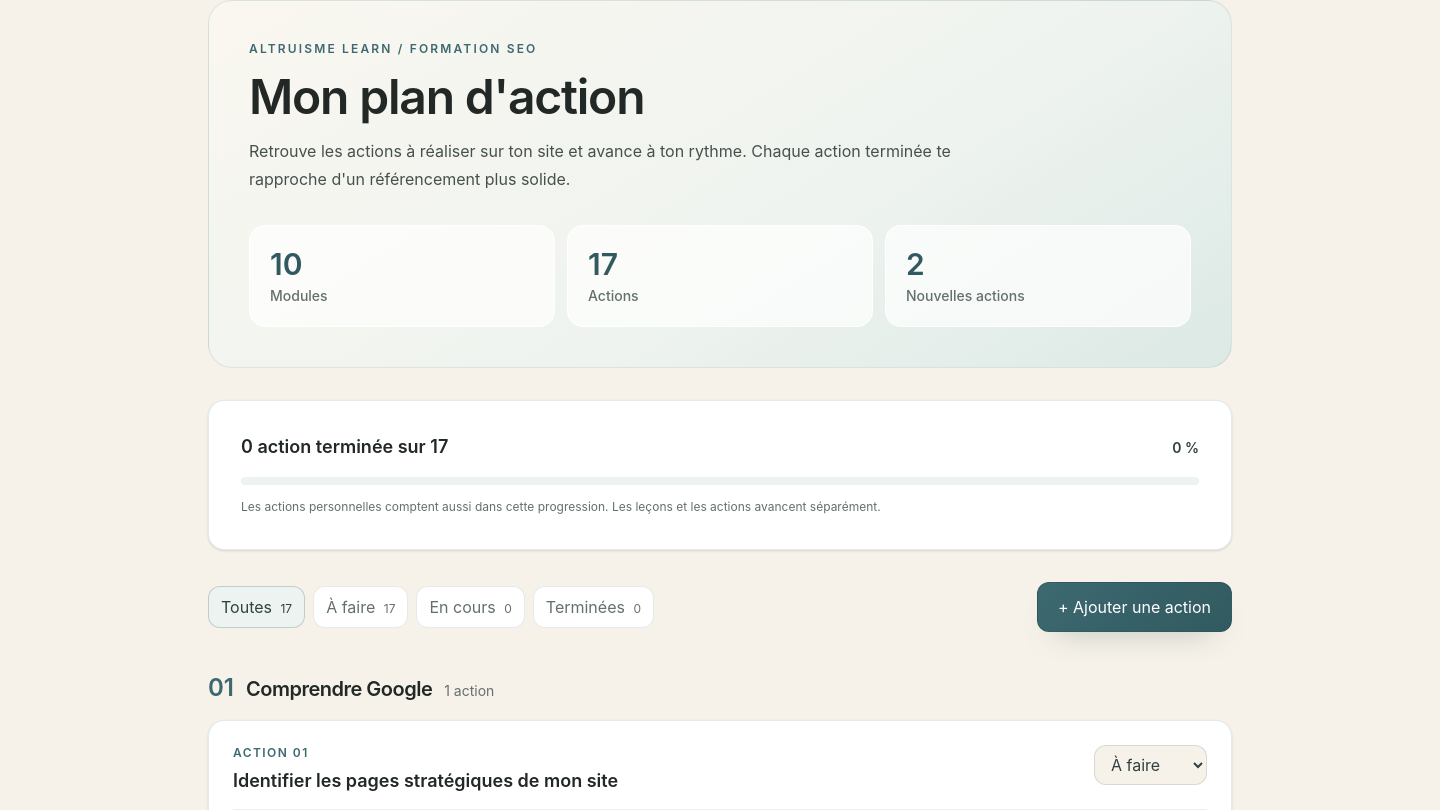
Test: Mon plan d’action › ajoute une action personnelle dans la progression
Click the button "+ Ajouter une action": (1134, 607) left=1037, top=582, right=1232, bottom=632
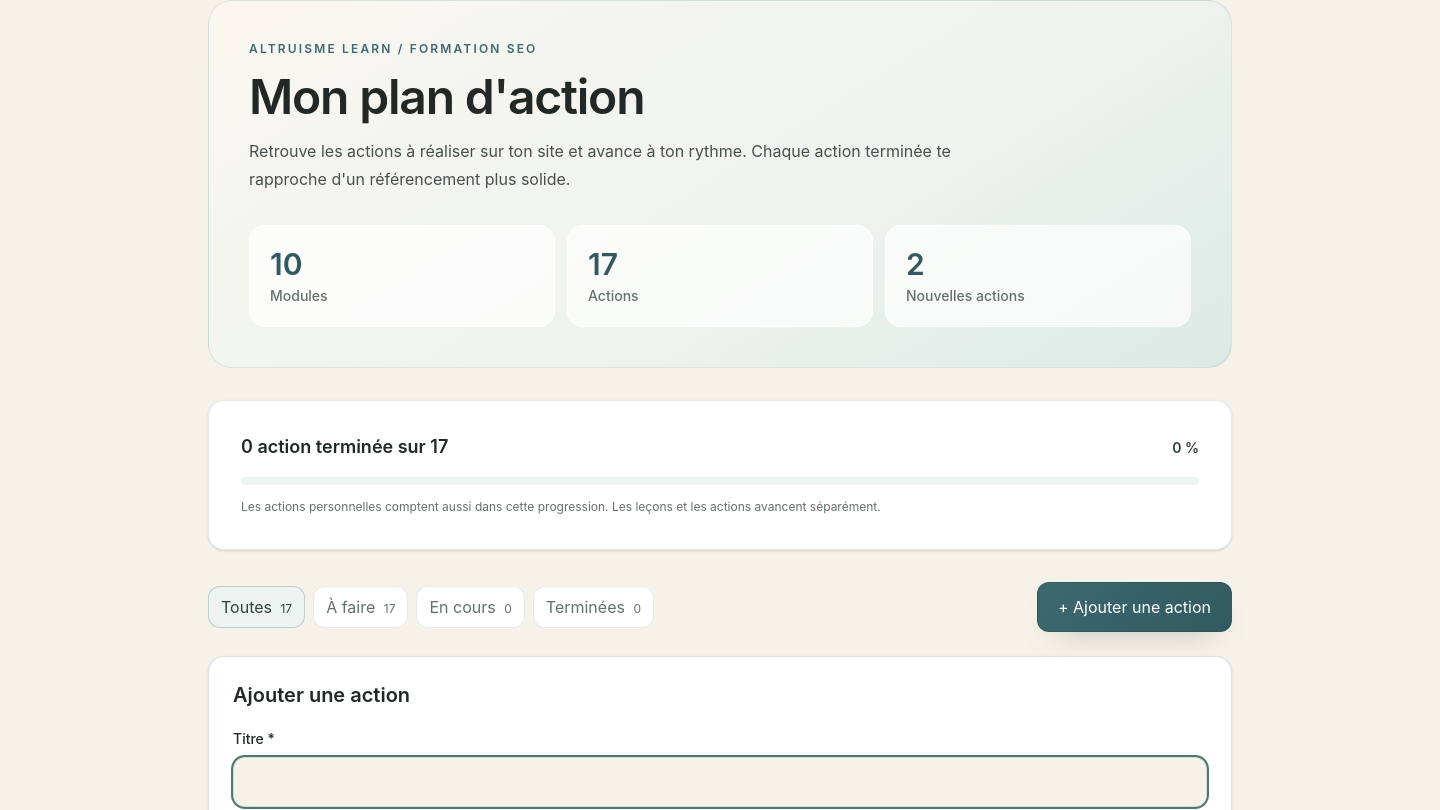
In the field labelled "Titre *": (720, 782) left=233, top=757, right=1207, bottom=807, type "Améliorer ma page de service"
(page scrolled)
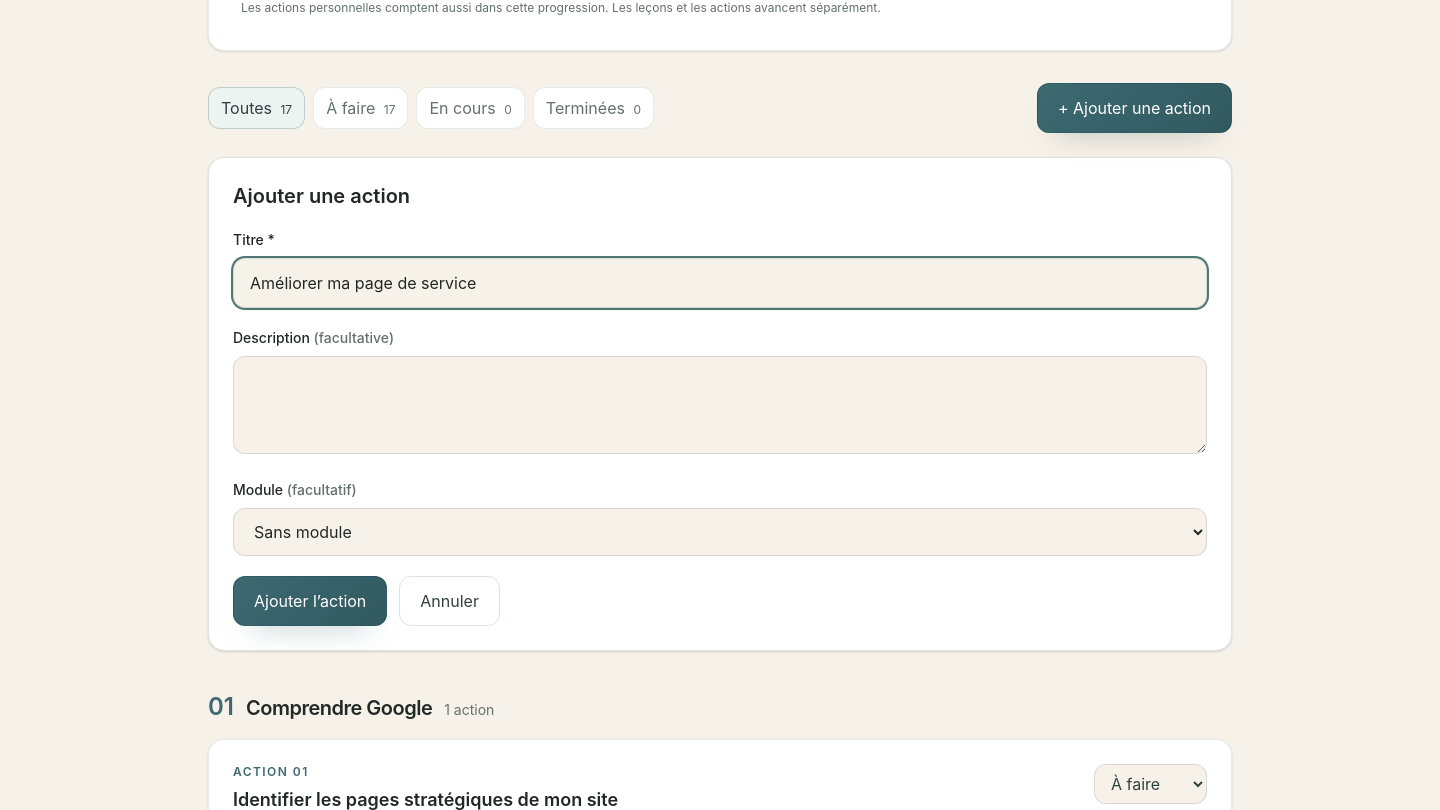
In the text box labelled "Description (facultative)": (720, 405) left=233, top=356, right=1207, bottom=454, type "Revoir les liens internes."
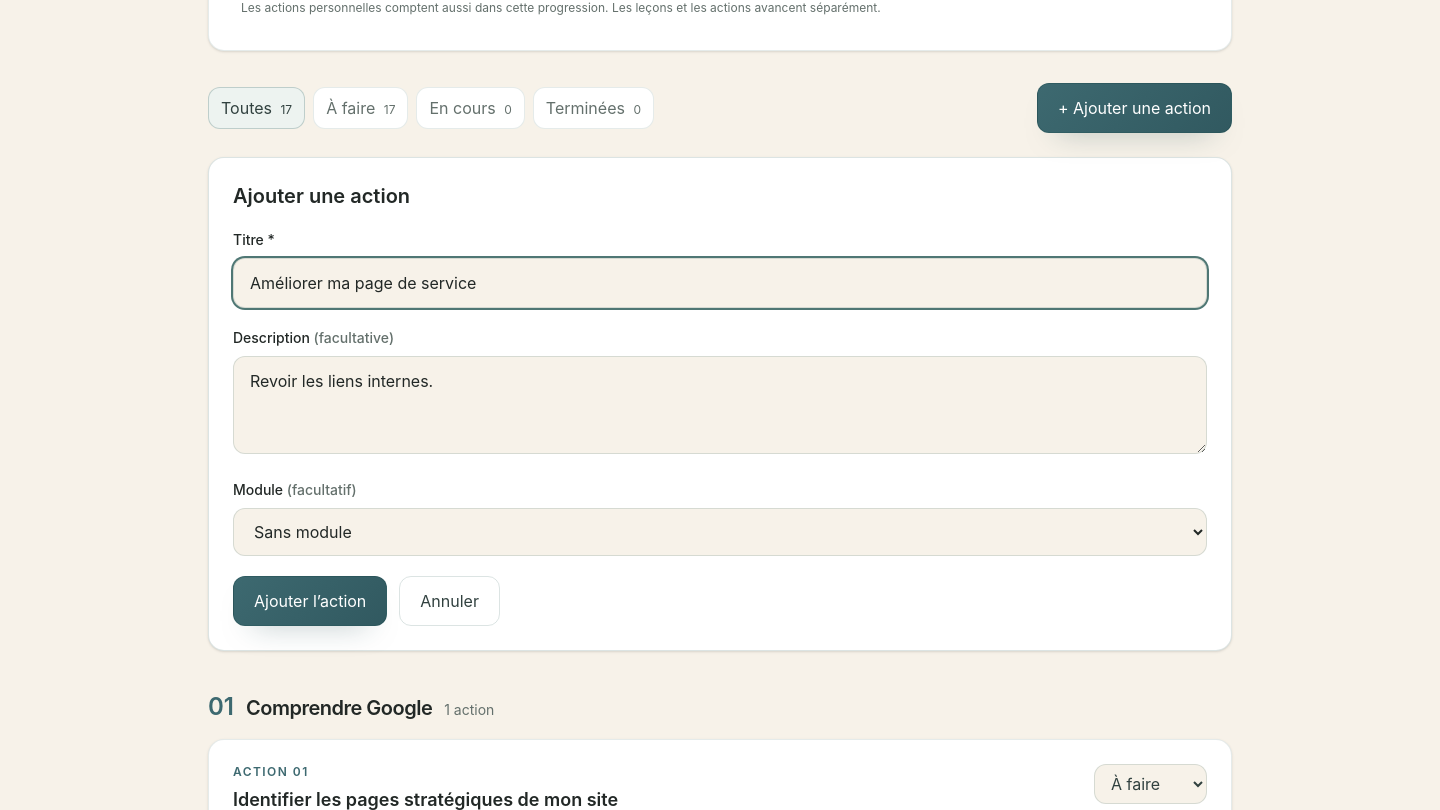
Select "04 — Optimiser tes pages" in the dropdown labelled "Module (facultatif)": (720, 532) left=233, top=508, right=1207, bottom=556
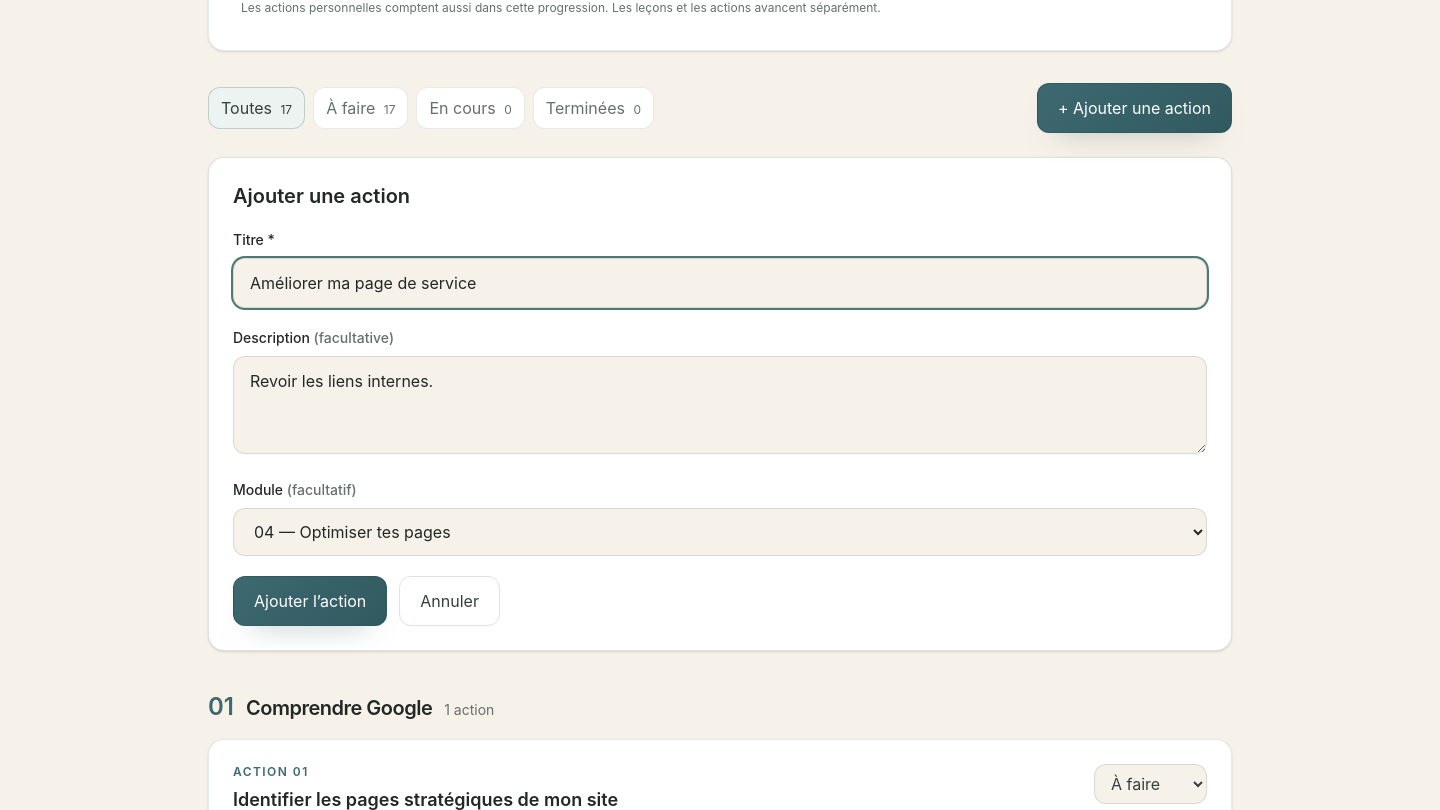
Submit the form, box left=208, top=157, right=1232, bottom=651
(page scrolled)
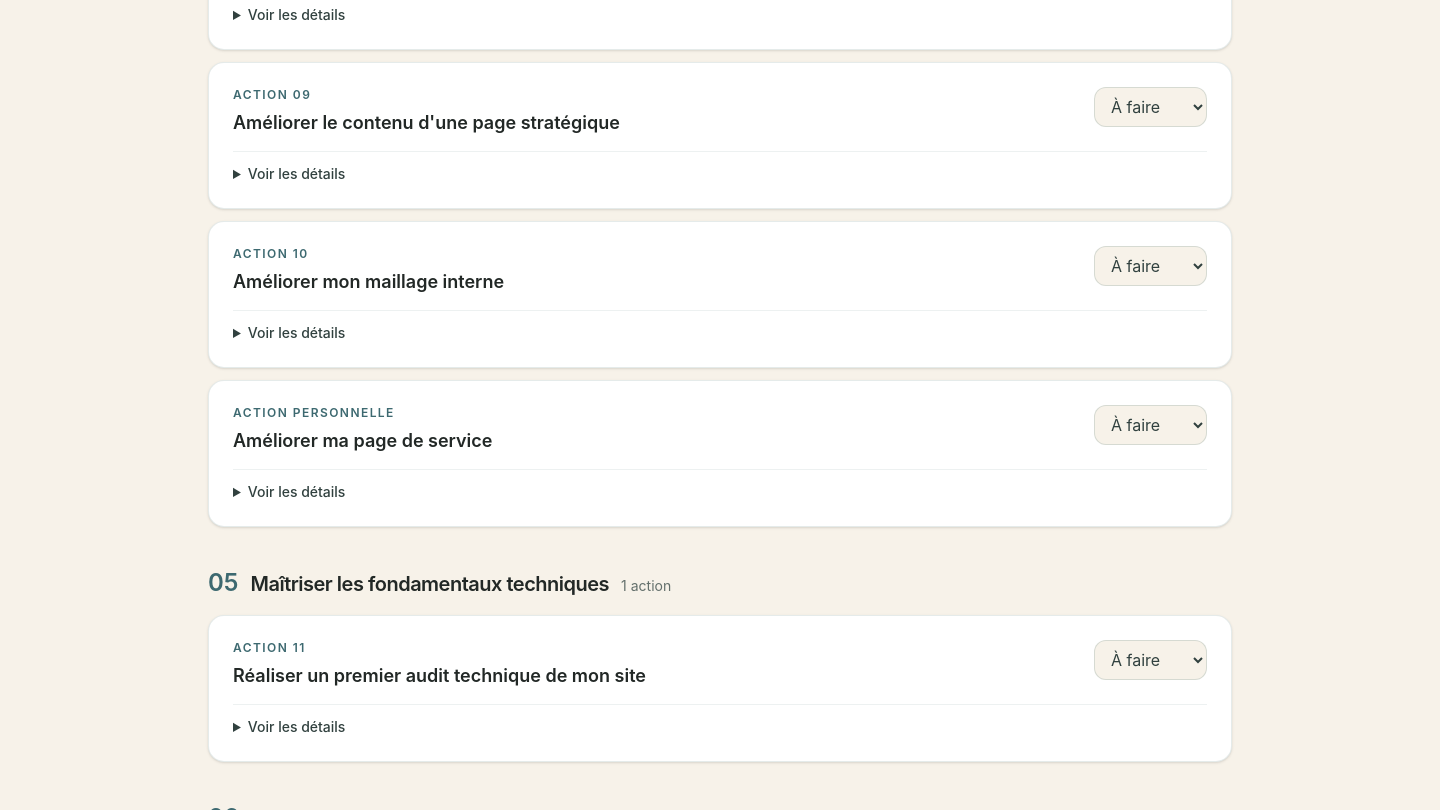
Now the element that starts with "Action personnelle" shows "Améliorer ma page de service", box left=233, top=430, right=492, bottom=451
